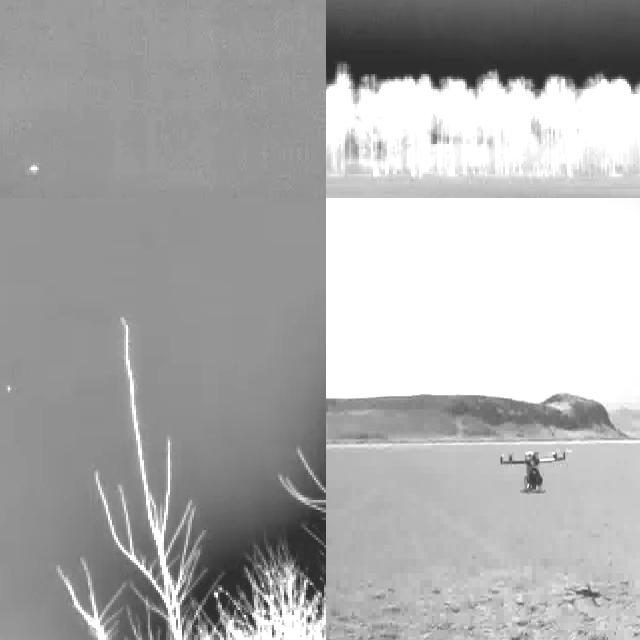0: (0, 373, 20, 408)
1: (17, 158, 43, 184)
drone: (498, 450, 570, 498)
